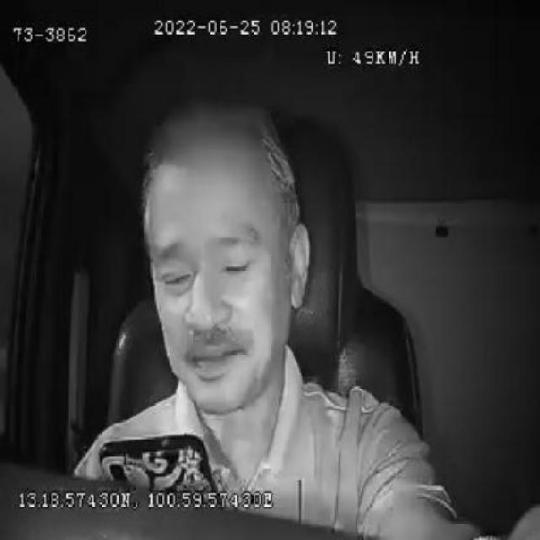phone: (98, 433, 218, 491)
